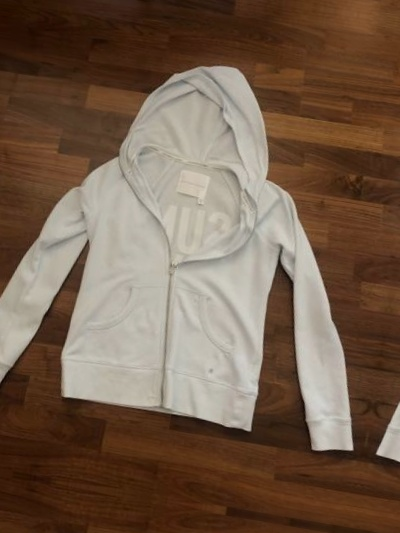Hoodie: (0, 27, 400, 476), (369, 100, 400, 533), (0, 517, 334, 533)
